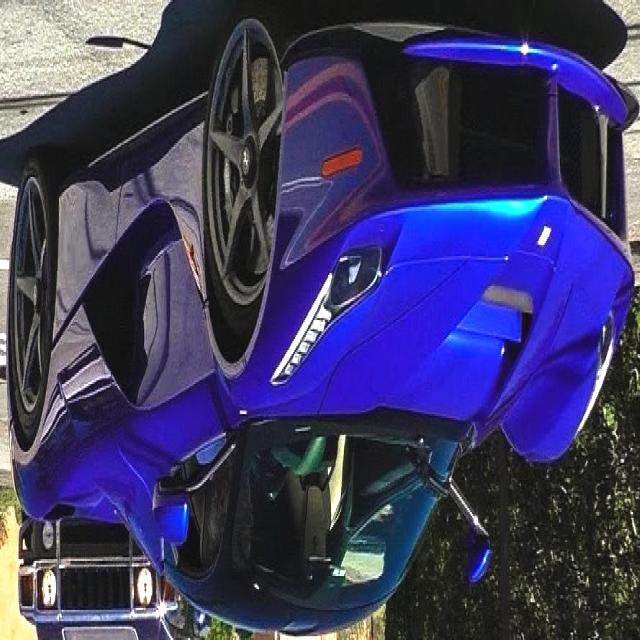blue: (0, 0, 624, 602)
